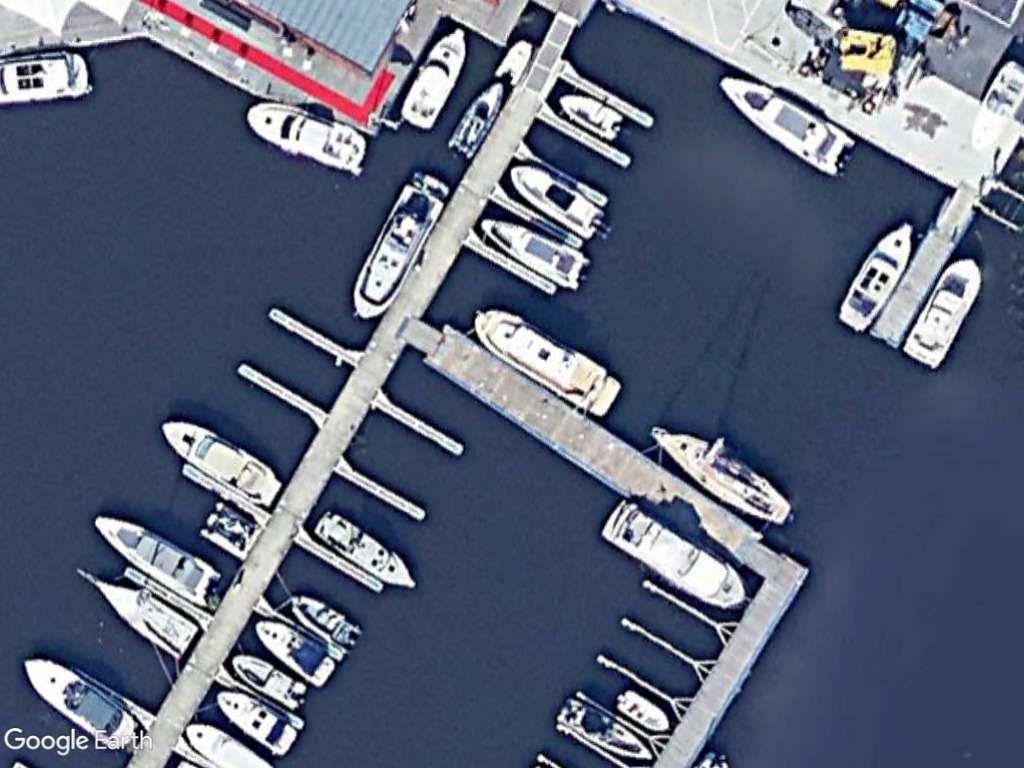boat: (593, 493, 749, 614), (471, 304, 625, 419), (342, 173, 452, 326), (646, 423, 796, 529), (714, 69, 857, 179), (16, 651, 144, 755), (89, 511, 221, 610), (73, 561, 200, 658), (156, 416, 284, 509), (240, 96, 371, 179), (311, 507, 422, 595), (837, 218, 920, 335), (901, 254, 983, 371), (478, 213, 589, 291), (551, 690, 658, 767), (507, 160, 607, 241), (397, 24, 469, 133), (251, 616, 339, 694), (212, 686, 298, 758), (443, 74, 507, 161), (228, 649, 309, 711), (284, 589, 361, 654), (556, 91, 625, 144), (613, 685, 673, 735), (490, 34, 537, 88)
